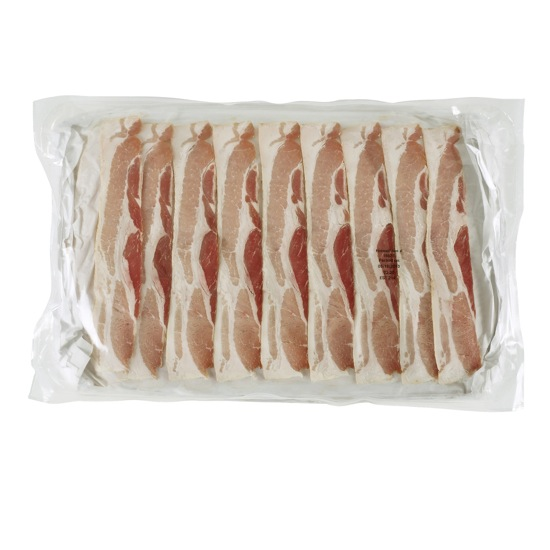bacon: (58, 106, 493, 384)
